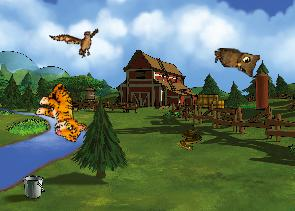eagle: (49, 15, 107, 67)
owl: (213, 48, 260, 77)
tiger: (28, 78, 98, 146)
